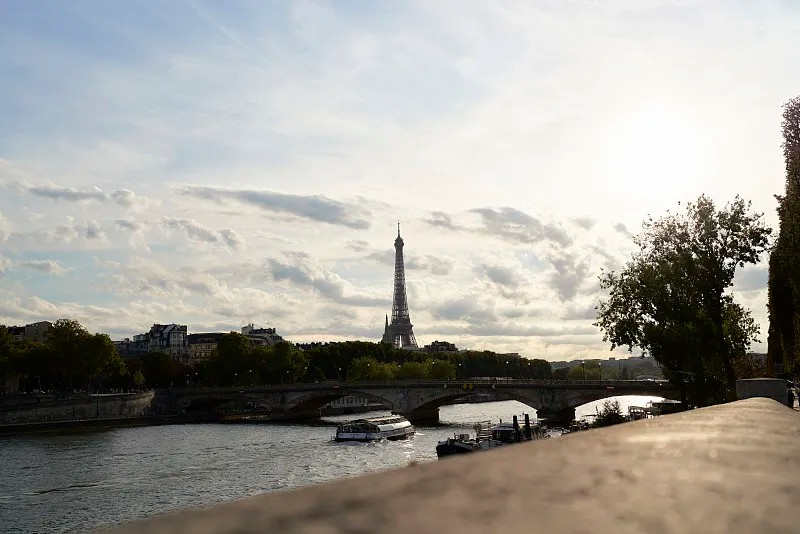Eiffel: (378, 219, 418, 350)
